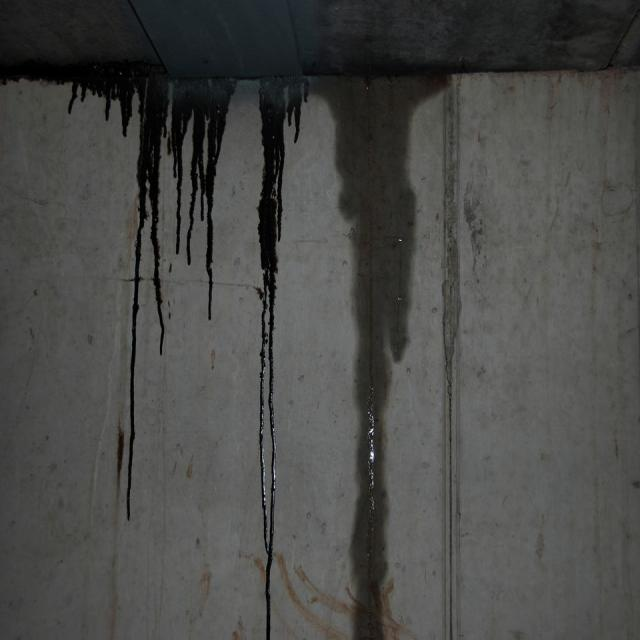Water_Leakage: (0, 6, 633, 482)
